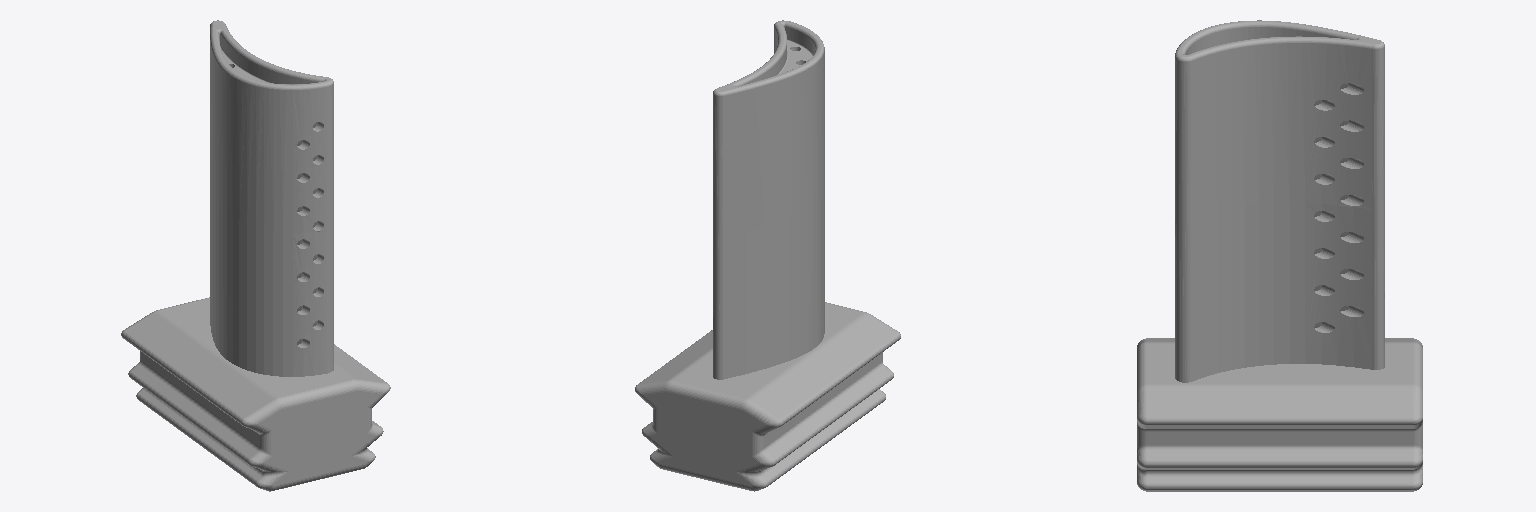
robot.urdf — myobj:
<robot name="myobj">
      <link name="tray_base_link">
        <inertial>
          <origin rpy="0 0 0" xyz="0 0 0"/>
          <mass value="0"/>
          <inertia ixx="0" ixy="0" ixz="0" iyy="0" iyz="0" izz="0"/>
        </inertial>
        <visual>
          <origin rpy="0 0 0" xyz="0 0 0"/>
          <geometry>
            <mesh filename="../mould/blade1.obj" scale="0.0095 0.0095 0.0095"/>
      </geometry>
          <material name="tray_material">
            <color rgba="0.7 0.7 0.7 1"/>
          </material>
        </visual>
      </link>
    </robot>

--- What the picture shows (computed from the rendered views, not written in the file) ---
Views: 3 orthographic renders of the robot side by side, from view 1: azimuth 30°, elevation 25°; view 2: azimuth 150°, elevation 25°; view 3: azimuth 270°, elevation 25°.
Model myobj with 1 links and 0 joints (none), rooted at tray_base_link, posed all joints at 0.
Visible links, largest first — view 1: tray_base_link; view 2: tray_base_link; view 3: tray_base_link.
Boxes of the visible links, box(x1,y1,x2,y2) form: tray_base_link: box(121, 20, 390, 491); tray_base_link: box(635, 20, 900, 491); tray_base_link: box(1137, 20, 1422, 491).
Bounding box of the posed robot: 0.1785 × 0.266 × 0.437 m (x, y, z).
Meshes: 1 distinct files referenced, 1 mesh visuals loaded (1 OBJ).